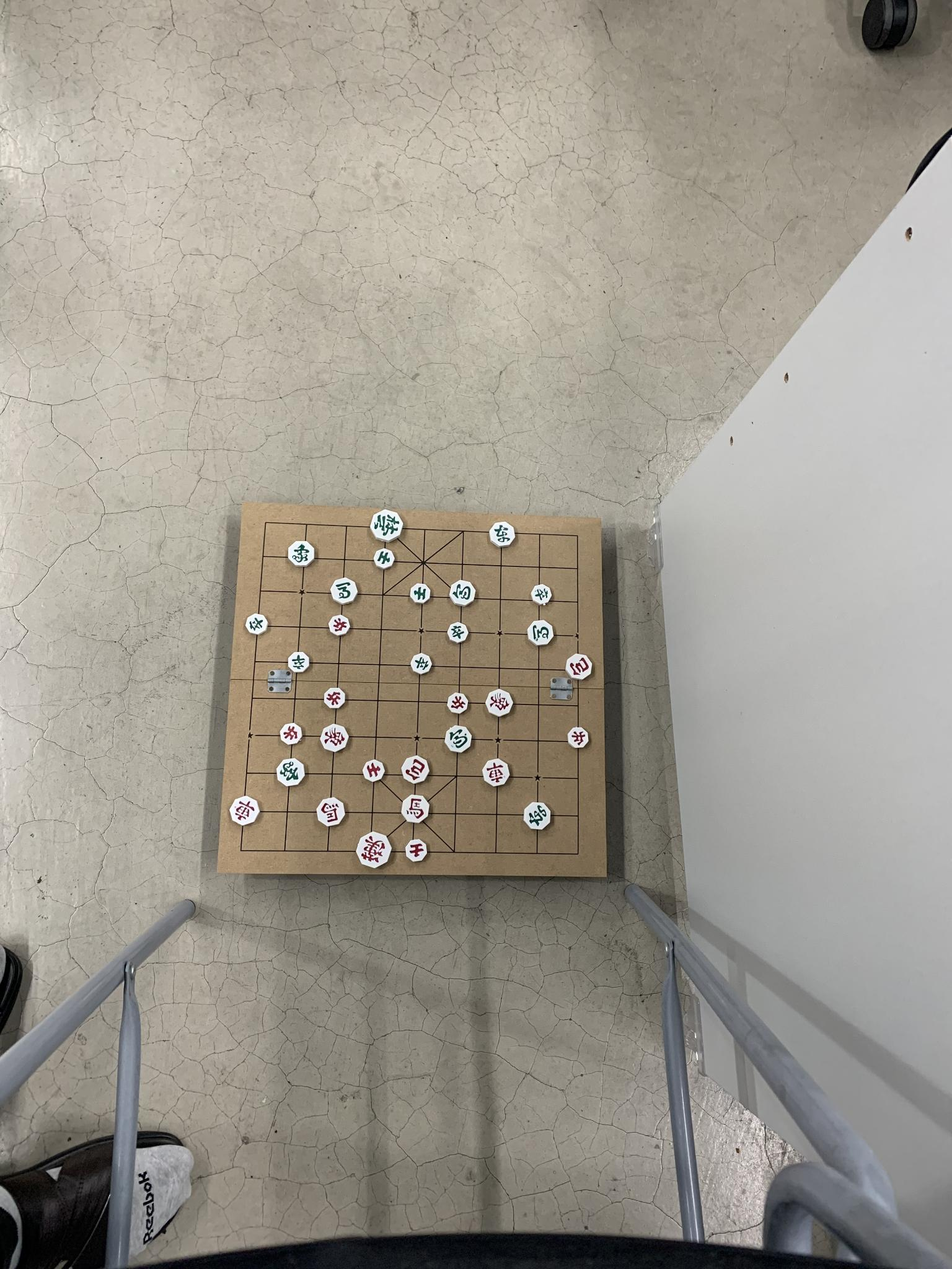cha_green: (524, 804, 551, 830), (490, 522, 514, 549)
cha_red: (231, 795, 259, 827), (483, 758, 509, 788)
jol_green: (447, 621, 470, 644), (411, 652, 433, 675), (288, 651, 309, 672), (247, 615, 267, 637), (530, 584, 552, 604)
jol_red: (566, 726, 589, 750), (448, 692, 470, 715), (281, 722, 302, 744), (324, 687, 345, 707), (329, 615, 348, 637)
ma_green: (330, 578, 357, 604), (529, 619, 553, 646)
ma_red: (317, 797, 346, 828), (402, 794, 429, 823)
po_green: (445, 724, 473, 753), (450, 579, 474, 606)
po_red: (402, 756, 430, 785), (568, 654, 592, 680)
sa_green: (408, 581, 431, 606), (374, 548, 394, 570)
sa_red: (404, 838, 426, 862), (363, 760, 386, 781)
sang_green: (277, 758, 305, 788), (288, 541, 314, 566)
sang_red: (322, 725, 348, 753), (486, 689, 514, 714)
wang_green: (370, 510, 403, 540)
wang_red: (356, 832, 391, 868)
